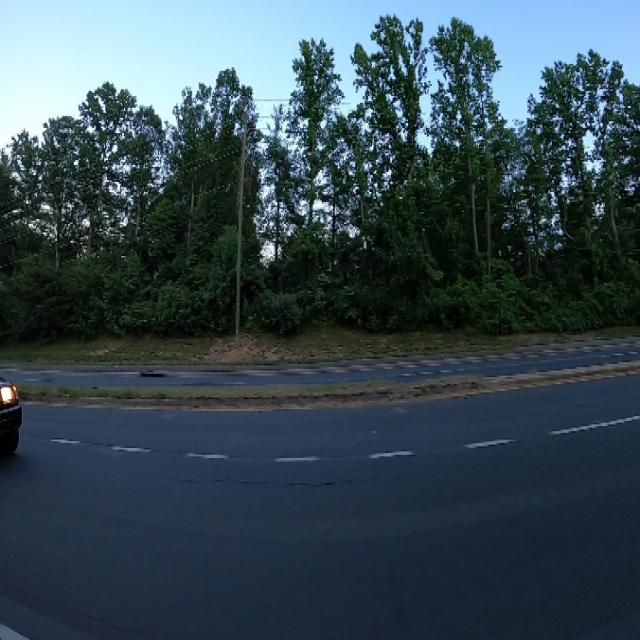cars: (0, 359, 23, 470)
